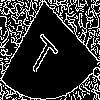T: (25, 25, 63, 81)
